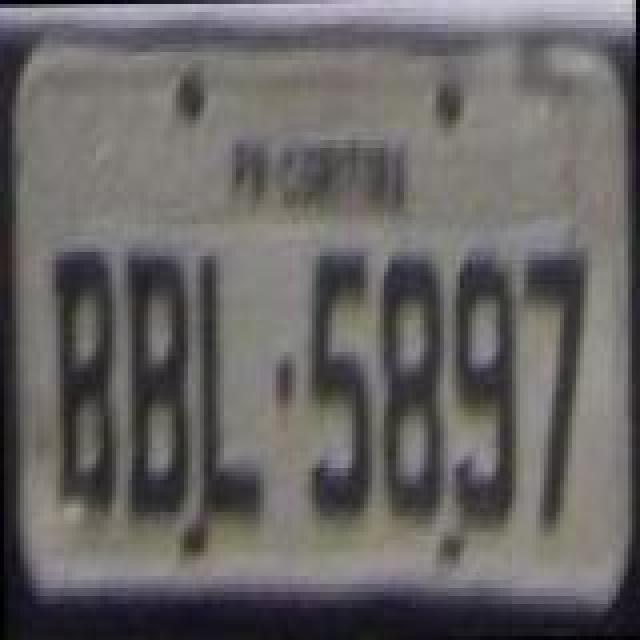5: (304, 242, 376, 526)
7: (522, 242, 598, 534)
8: (374, 244, 450, 524)
9: (446, 246, 522, 538)
B: (48, 250, 120, 518), (120, 250, 192, 518)
L: (192, 248, 264, 520)
